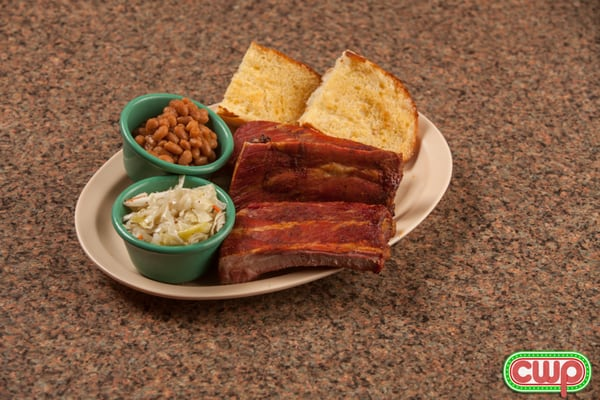soup: (219, 120, 400, 282), (298, 49, 420, 166), (215, 39, 322, 125)
sushi: (111, 172, 236, 283), (119, 92, 236, 180)
